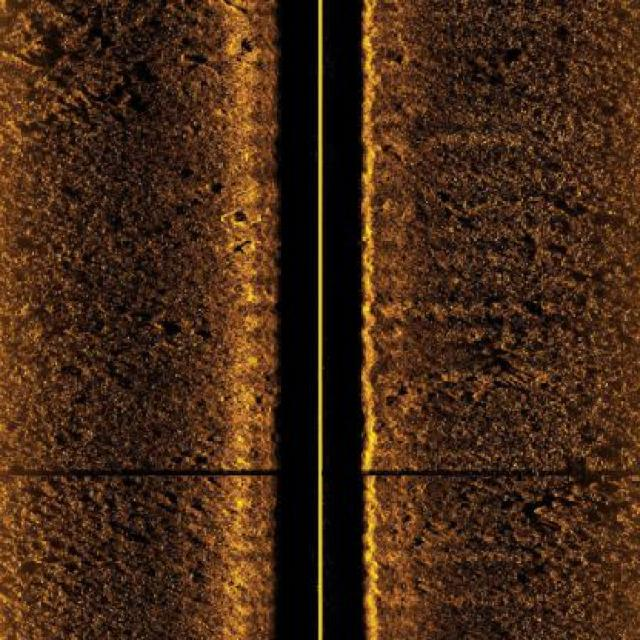mine: (219, 206, 256, 228)
